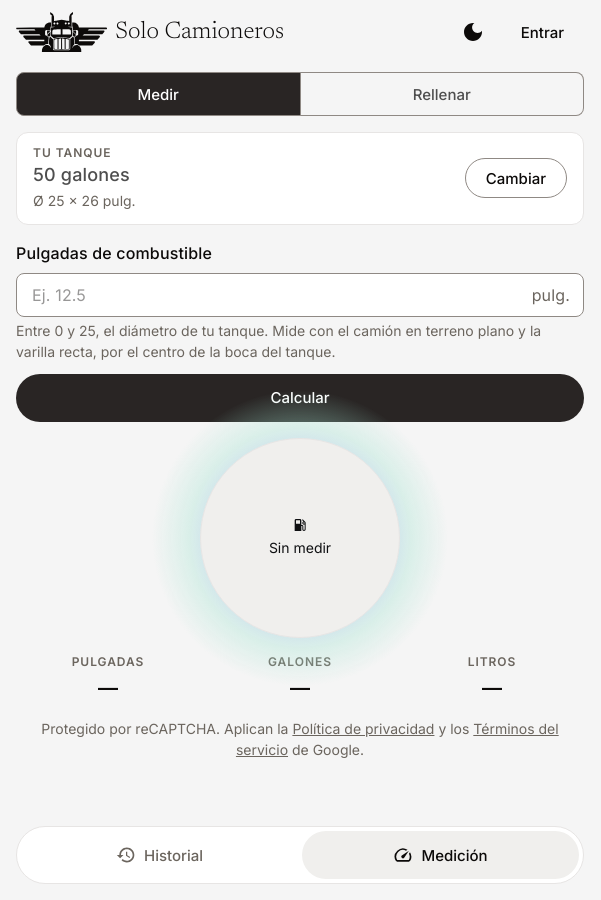
Scenario: accepts decimal inches with a comma
In the field labelled "Pulgadas de combustible": (270, 295) [16,273,524,317], type "12,5"
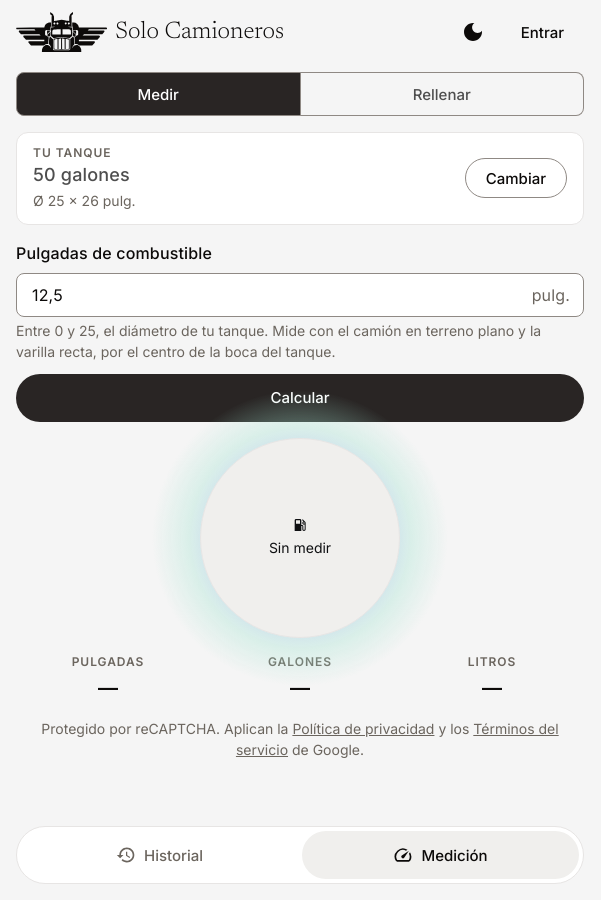
Click the button "Calcular": (300, 398) [16,374,584,422]
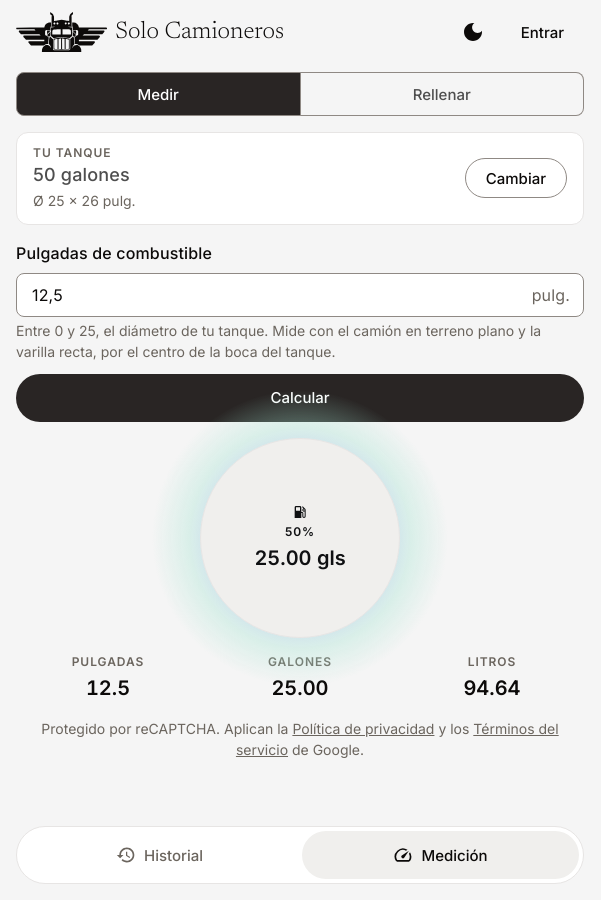
Check: the text "12.5" is shown, box [86,676,130,700]
